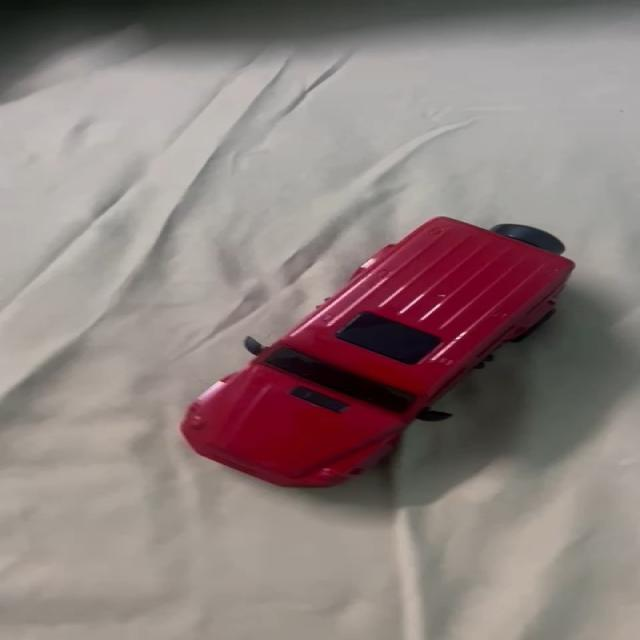light_vehicle: (116, 213, 574, 490)
